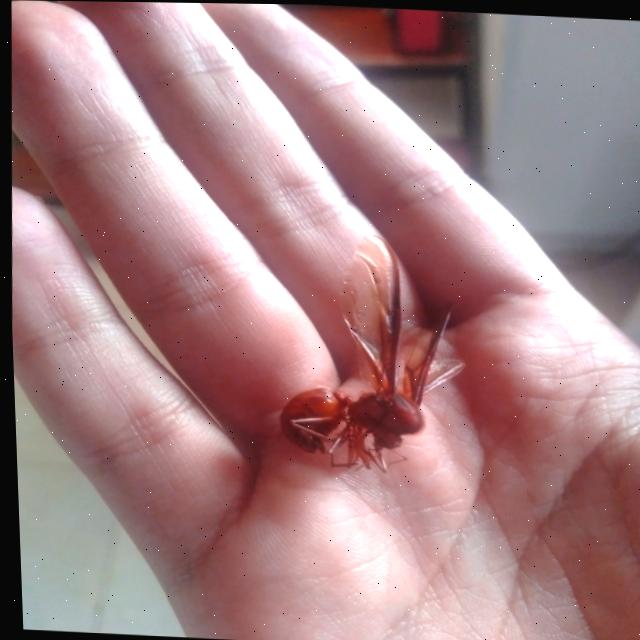Dead-Male-Alate: (269, 229, 471, 476)
